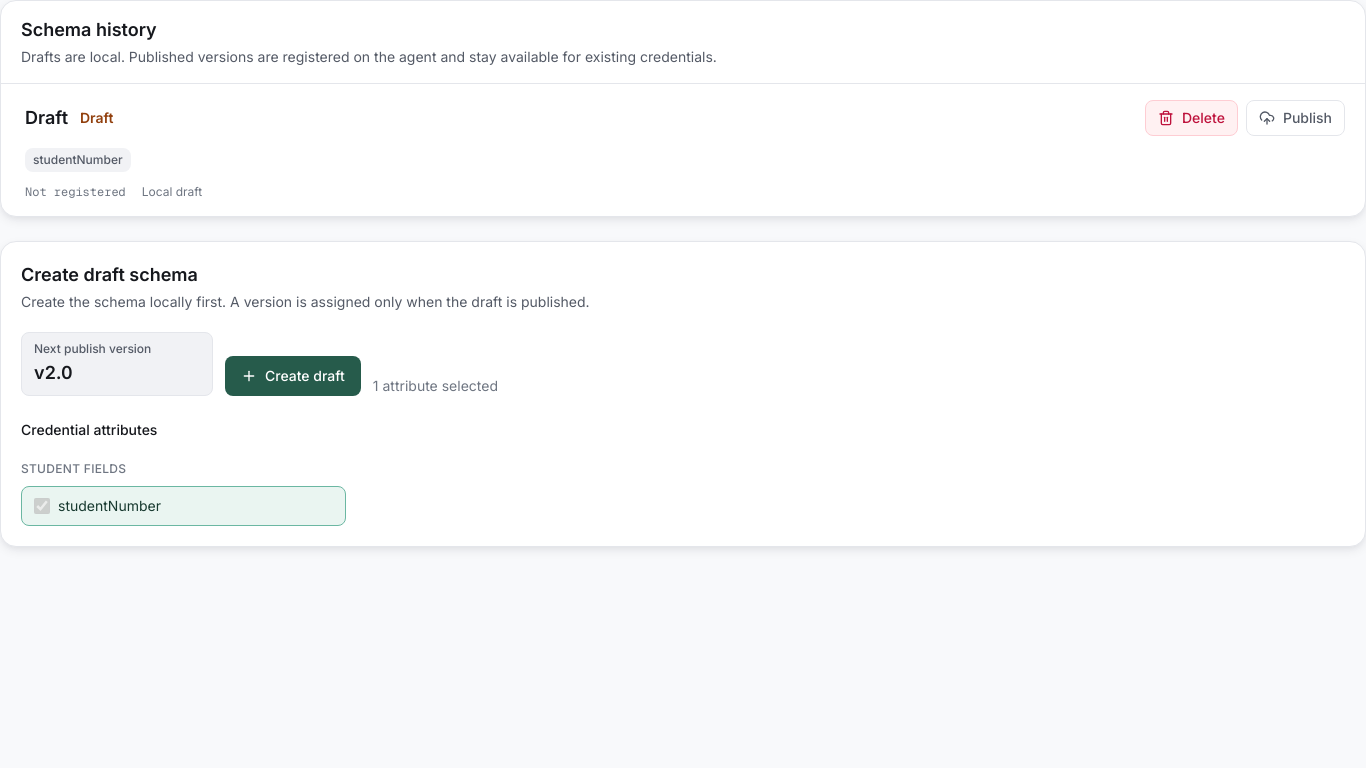
SchemaVersionManager › confirms deleting a draft via a dialog before submitting the request
Expected: the button "Confirm and delete" is not shown
Step 1. Click the button "Delete" → (1191,118), box [1145,100,1238,136]
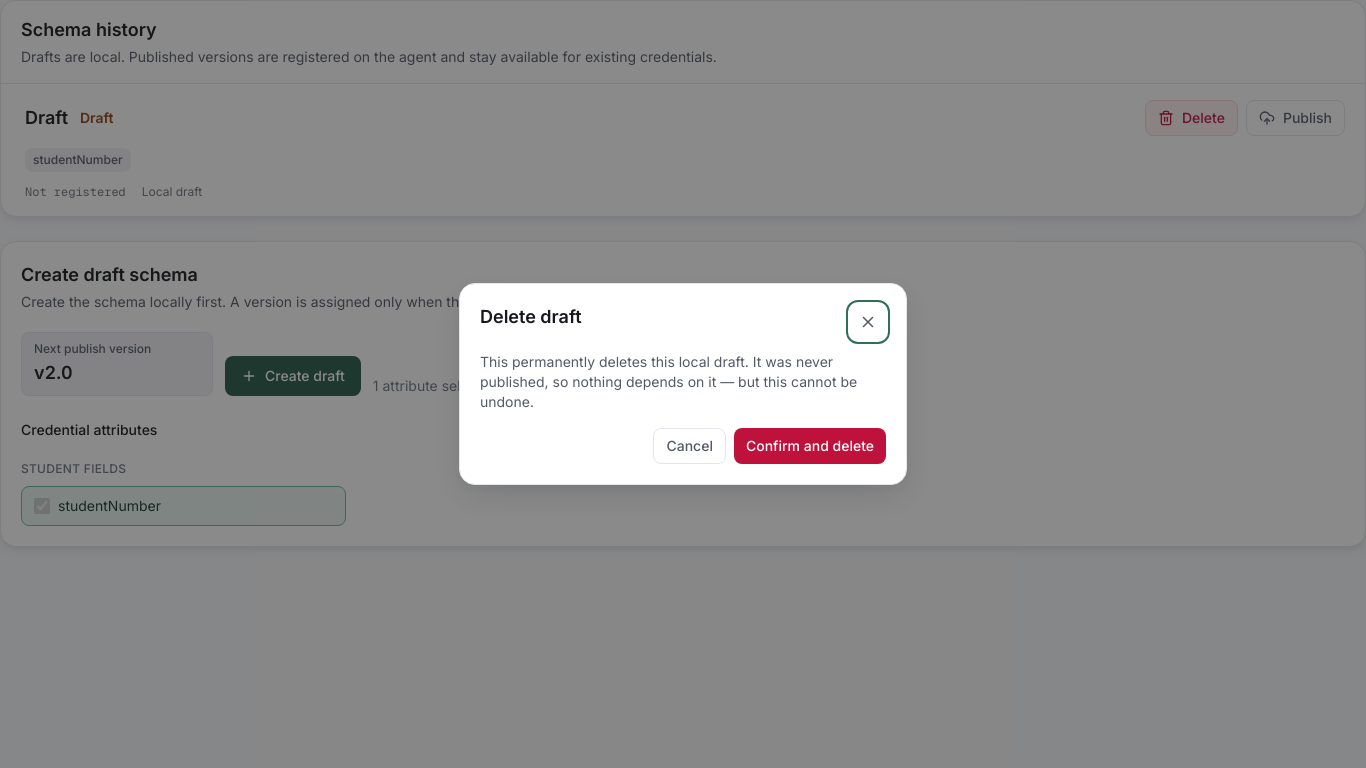
Expected: the text "permanently deletes this local draft" is shown, [480,353,857,410]
Step 2. Click the button "Confirm and delete" → (810,446), box [734,428,886,464]
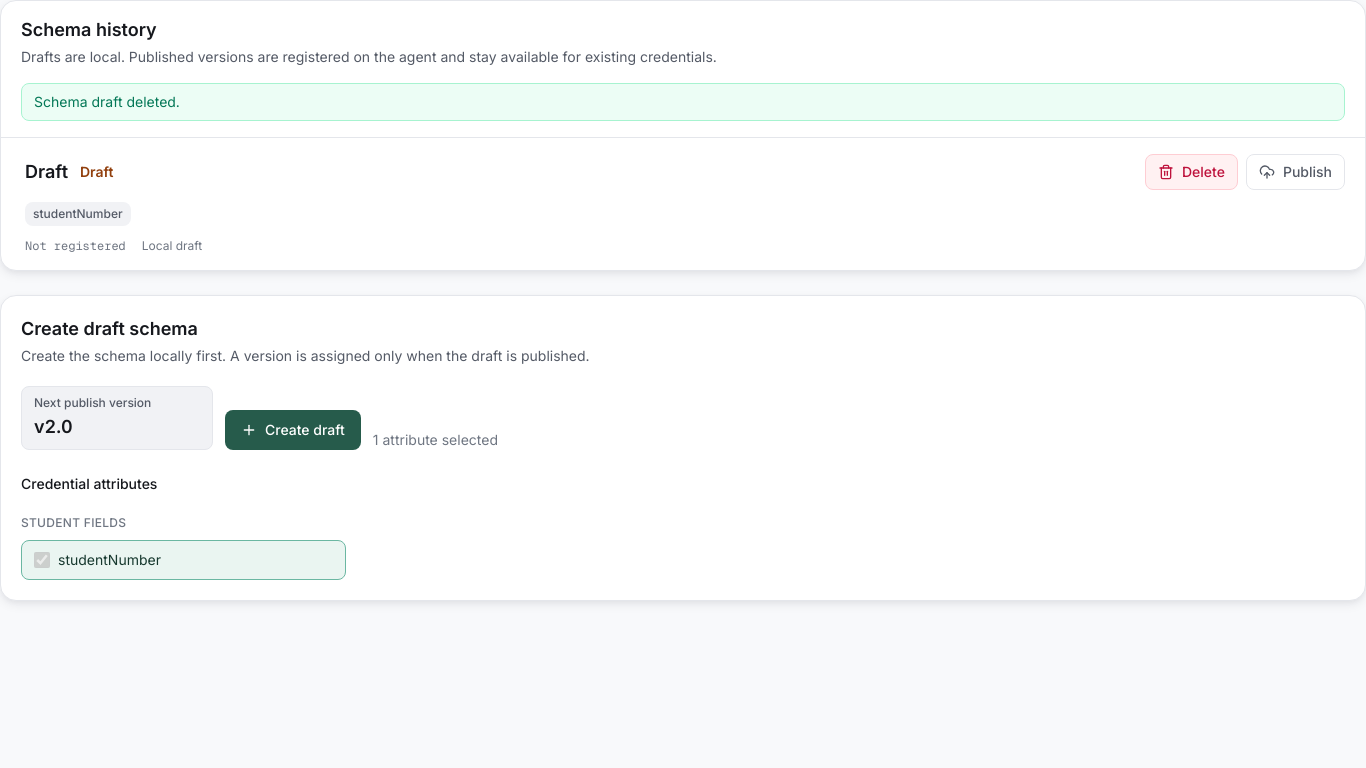
Expected: the text "Schema draft deleted." is shown, [21,83,1345,121]
